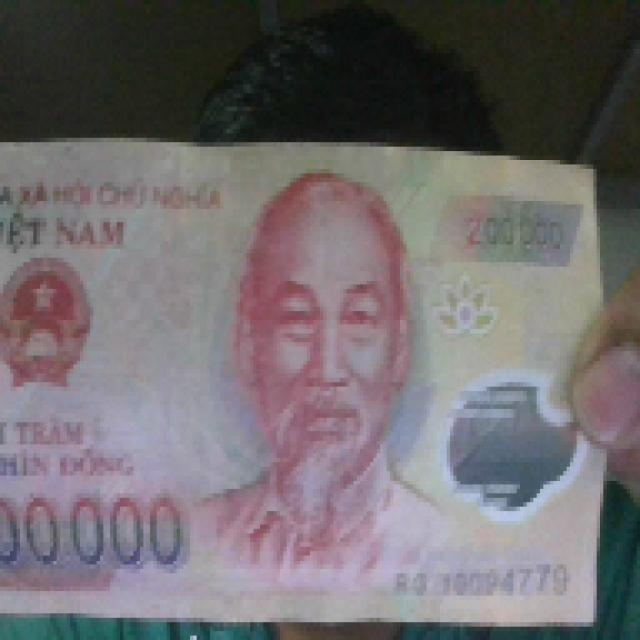200 000 VND: (0, 129, 610, 627)
